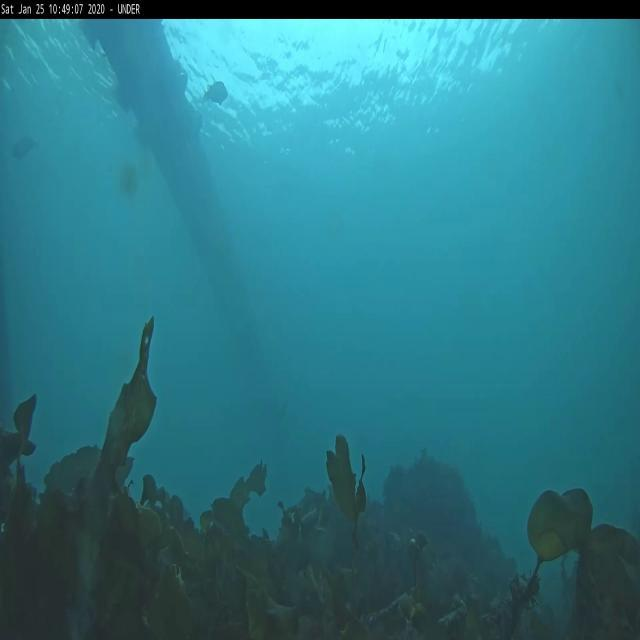fish: (8, 130, 32, 159), (203, 83, 228, 104)
